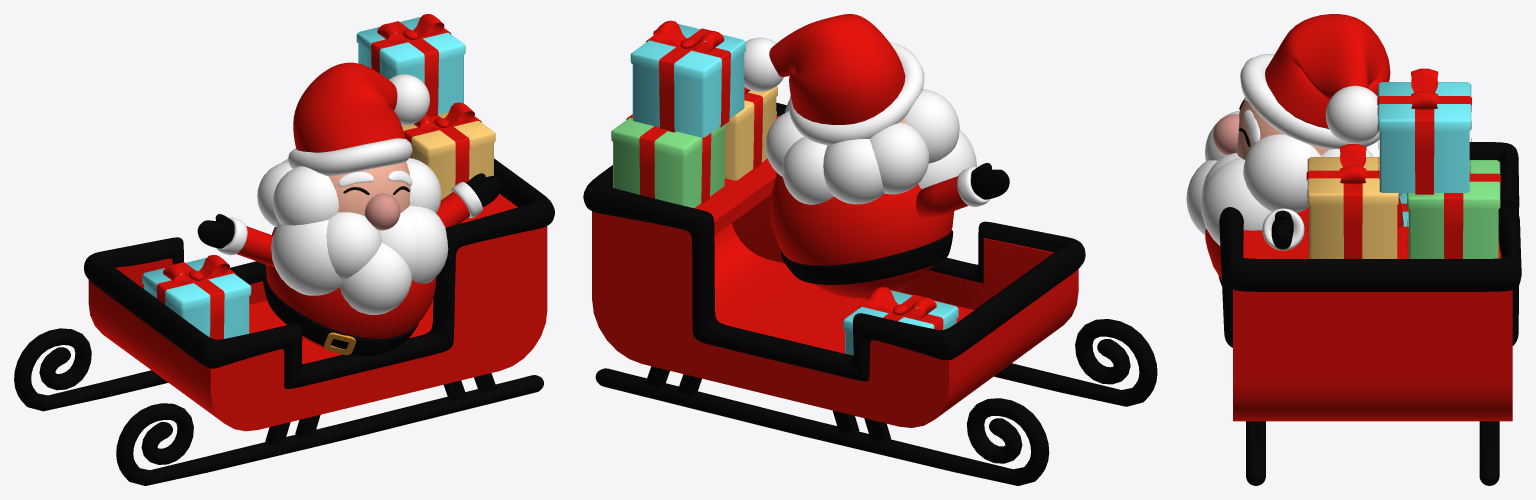
File: santa2S.glb
The picture shows the model from 3 angles, left to right: view 1: azimuth 30°, elevation 25°; view 2: azimuth 150°, elevation 25°; view 3: azimuth 270°, elevation 25°; orthographic projection. The views are drawn at different scales.
Parts seen in each view (by area): view 1: Cube_0, Cube.001_2, Point.001_1, Plane_18, Cube.009_33, Cube.012_35, Cube.011_32, Sphere_3, Sphere.005_16, Sphere.004_6, Sphere.008_9, Torus_17 (+14 smaller); view 2: Cube_0, Cube.001_2, Point.001_1, Sphere_3, Plane_18, Cube.009_33, Cube.010_34, Torus.001_24, Torus_17, Cube.011_32, Sphere.012_13, Sphere.010_11 (+9 smaller); view 3: Cube_0, Cube.001_2, Cube.009_33, Plane_18, Cube.011_32, Cube.010_34, Sphere.009_10, Torus_17, Sphere.003_15, Point.001_1, Sphere.014_19, Sphere.004_6 (+6 smaller).
Boxes of the visible parts, bbox=[...] form: Cube_0: bbox=[88, 194, 547, 431]; Cube.001_2: bbox=[84, 158, 554, 388]; Point.001_1: bbox=[14, 328, 543, 485]; Plane_18: bbox=[293, 62, 405, 152]; Cube.009_33: bbox=[356, 14, 465, 117]; Cube.012_35: bbox=[142, 255, 251, 339]; Cube.011_32: bbox=[401, 102, 495, 200]; Sphere_3: bbox=[265, 227, 436, 348]; Sphere.005_16: bbox=[271, 219, 342, 295]; Sphere.004_6: bbox=[340, 242, 411, 314]; Sphere.008_9: bbox=[273, 166, 338, 225]; Torus_17: bbox=[288, 138, 412, 175]; Cube_0: bbox=[592, 158, 1078, 427]; Cube.001_2: bbox=[583, 102, 1085, 381]; Point.001_1: bbox=[595, 319, 1157, 485]; Sphere_3: bbox=[770, 172, 954, 298]; Plane_18: bbox=[769, 14, 905, 124]; Cube.009_33: bbox=[630, 20, 745, 137]; Cube.010_34: bbox=[611, 114, 726, 208]; Torus.001_24: bbox=[781, 230, 953, 284]; Torus_17: bbox=[789, 41, 924, 145]; Cube.011_32: bbox=[724, 86, 777, 180]; Sphere.012_13: bbox=[823, 139, 884, 204]; Sphere.010_11: bbox=[869, 122, 929, 194]; Cube_0: bbox=[1233, 226, 1512, 421]; Cube.001_2: bbox=[1219, 142, 1521, 347]; Cube.009_33: bbox=[1377, 68, 1471, 194]; Plane_18: bbox=[1265, 14, 1390, 129]; Cube.011_32: bbox=[1306, 144, 1399, 258]; Cube.010_34: bbox=[1406, 160, 1500, 258]; Sphere.009_10: bbox=[1243, 134, 1321, 212]; Torus_17: bbox=[1240, 54, 1379, 149]; Sphere.003_15: bbox=[1201, 157, 1271, 245]; Point.001_1: bbox=[1246, 421, 1499, 485]; Sphere.014_19: bbox=[1325, 85, 1378, 143]; Sphere.004_6: bbox=[1186, 160, 1217, 235].
Bounding box in the file's own units: 0.5572 × 0.4158 × 0.3294.
